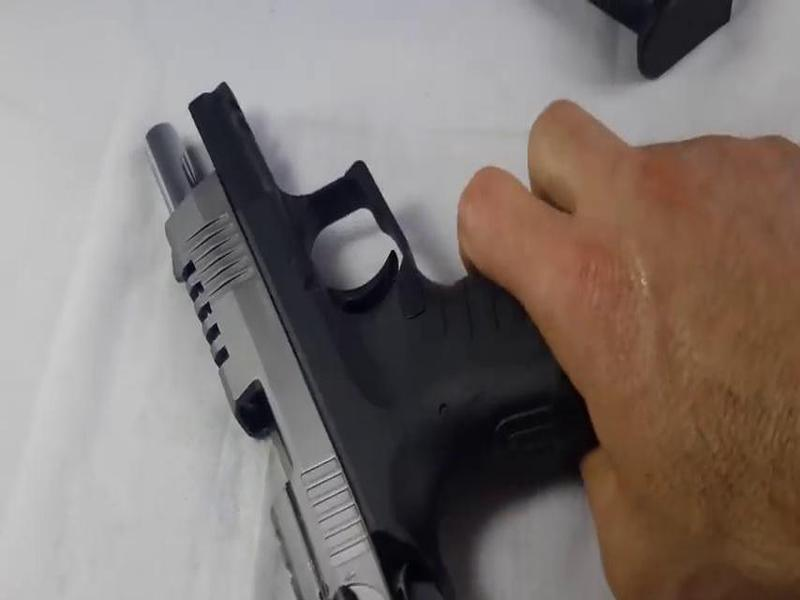Pistola: (131, 29, 593, 600)
